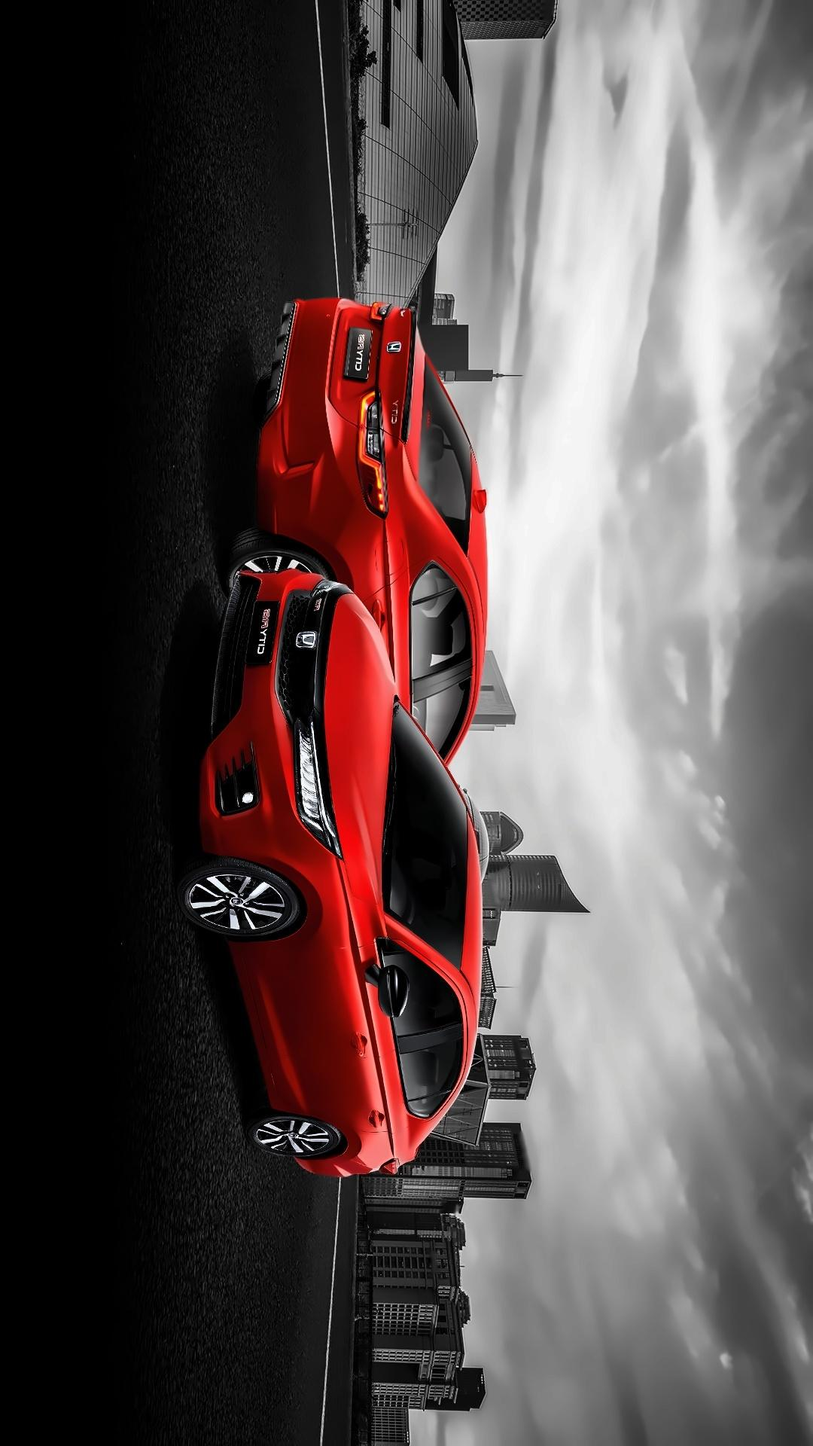Car boot: (327, 293, 425, 483)
Car hood: (313, 582, 400, 925)
Fender - -F-R-: (267, 821, 398, 965)
Fender - -R-L-: (321, 1098, 434, 1179)
Fender - -R-R-: (308, 492, 481, 596)
Front bumper: (192, 565, 315, 877)
Headlight - -L-: (370, 298, 391, 326)
Headlight - -R-: (353, 385, 390, 520)
Passenger-s door - -F-L-: (224, 940, 474, 1059)
Passenger-s door - -R-L-: (244, 1017, 496, 1140)
Rear bumper: (253, 294, 379, 550), (290, 1130, 368, 1192)
Rear light - -L-: (382, 1155, 398, 1180)
Side bumper - -L-: (220, 933, 293, 1113)
Side mirror - -L-: (362, 959, 410, 1022)
